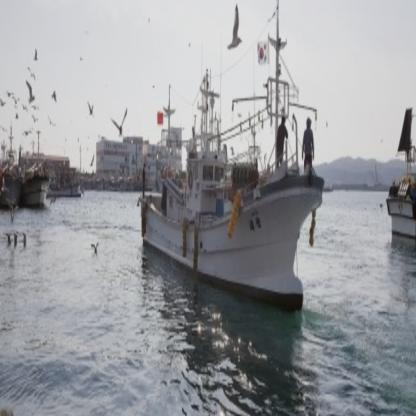fish-b: (130, 30, 333, 327)
